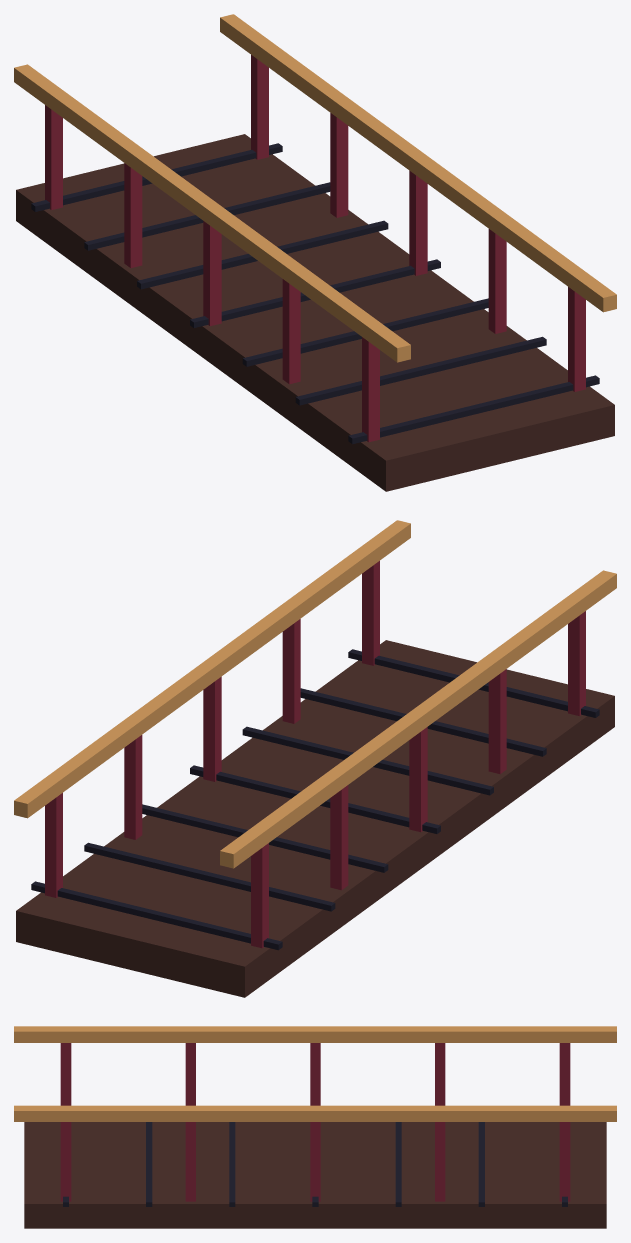
The model's file is moonfall_bridge.obj.
3 views of the same model, one above another, from view 1: azimuth 30°, elevation 25°; view 2: azimuth 150°, elevation 25°; view 3: azimuth 270°, elevation 25° (orthographic). The views are drawn at different scales.
Visible parts, largest first — view 1: moonfall_bridge_00, moonfall_bridge_06, moonfall_bridge_12, moonfall_bridge_18, moonfall_bridge_19, moonfall_bridge_15, moonfall_bridge_14, moonfall_bridge_17, moonfall_bridge_04, moonfall_bridge_10, moonfall_bridge_02, moonfall_bridge_08 (+8 smaller); view 2: moonfall_bridge_00, moonfall_bridge_06, moonfall_bridge_12, moonfall_bridge_14, moonfall_bridge_13, moonfall_bridge_17, moonfall_bridge_18, moonfall_bridge_15, moonfall_bridge_02, moonfall_bridge_08, moonfall_bridge_04, moonfall_bridge_10 (+8 smaller); view 3: moonfall_bridge_00, moonfall_bridge_06, moonfall_bridge_12, moonfall_bridge_07, moonfall_bridge_11, moonfall_bridge_08, moonfall_bridge_10, moonfall_bridge_09, moonfall_bridge_01, moonfall_bridge_05, moonfall_bridge_02, moonfall_bridge_03 (+5 smaller).
Part boxes in pixels (x1=…): moonfall_bridge_00: x1=16, y1=134, x2=614, y2=491; moonfall_bridge_06: x1=14, y1=64, x2=410, y2=362; moonfall_bridge_12: x1=220, y1=14, x2=616, y2=312; moonfall_bridge_18: x1=295, y1=336, x2=546, y2=405; moonfall_bridge_19: x1=348, y1=375, x2=599, y2=444; moonfall_bridge_15: x1=137, y1=220, x2=388, y2=289; moonfall_bridge_14: x1=84, y1=182, x2=330, y2=250; moonfall_bridge_17: x1=242, y1=298, x2=488, y2=366; moonfall_bridge_04: x1=282, y1=279, x2=300, y2=384; moonfall_bridge_10: x1=488, y1=229, x2=506, y2=333; moonfall_bridge_02: x1=124, y1=163, x2=142, y2=267; moonfall_bridge_08: x1=330, y1=113, x2=348, y2=217; moonfall_bridge_00: x1=16, y1=640, x2=614, y2=997; moonfall_bridge_06: x1=220, y1=570, x2=616, y2=868; moonfall_bridge_12: x1=14, y1=520, x2=410, y2=818; moonfall_bridge_14: x1=84, y1=842, x2=335, y2=911; moonfall_bridge_13: x1=31, y1=881, x2=282, y2=950; moonfall_bridge_17: x1=242, y1=726, x2=493, y2=795; moonfall_bridge_18: x1=300, y1=688, x2=546, y2=756; moonfall_bridge_15: x1=142, y1=804, x2=388, y2=872; moonfall_bridge_02: x1=330, y1=785, x2=348, y2=890; moonfall_bridge_08: x1=124, y1=735, x2=142, y2=839; moonfall_bridge_04: x1=488, y1=669, x2=506, y2=773; moonfall_bridge_10: x1=282, y1=619, x2=300, y2=723; moonfall_bridge_00: x1=24, y1=1122, x2=606, y2=1228; moonfall_bridge_06: x1=14, y1=1026, x2=616, y2=1042; moonfall_bridge_12: x1=14, y1=1105, x2=616, y2=1121; moonfall_bridge_07: x1=559, y1=1122, x2=570, y2=1201; moonfall_bridge_11: x1=60, y1=1122, x2=71, y2=1201; moonfall_bridge_08: x1=435, y1=1122, x2=445, y2=1201; moonfall_bridge_10: x1=185, y1=1122, x2=195, y2=1201; moonfall_bridge_09: x1=310, y1=1122, x2=320, y2=1201; moonfall_bridge_01: x1=559, y1=1043, x2=570, y2=1105; moonfall_bridge_05: x1=60, y1=1043, x2=71, y2=1105; moonfall_bridge_02: x1=435, y1=1043, x2=445, y2=1105; moonfall_bridge_03: x1=310, y1=1043, x2=320, y2=1105.
Bounding box in the file's own units: 5.4 × 3.07 × 14.5.
